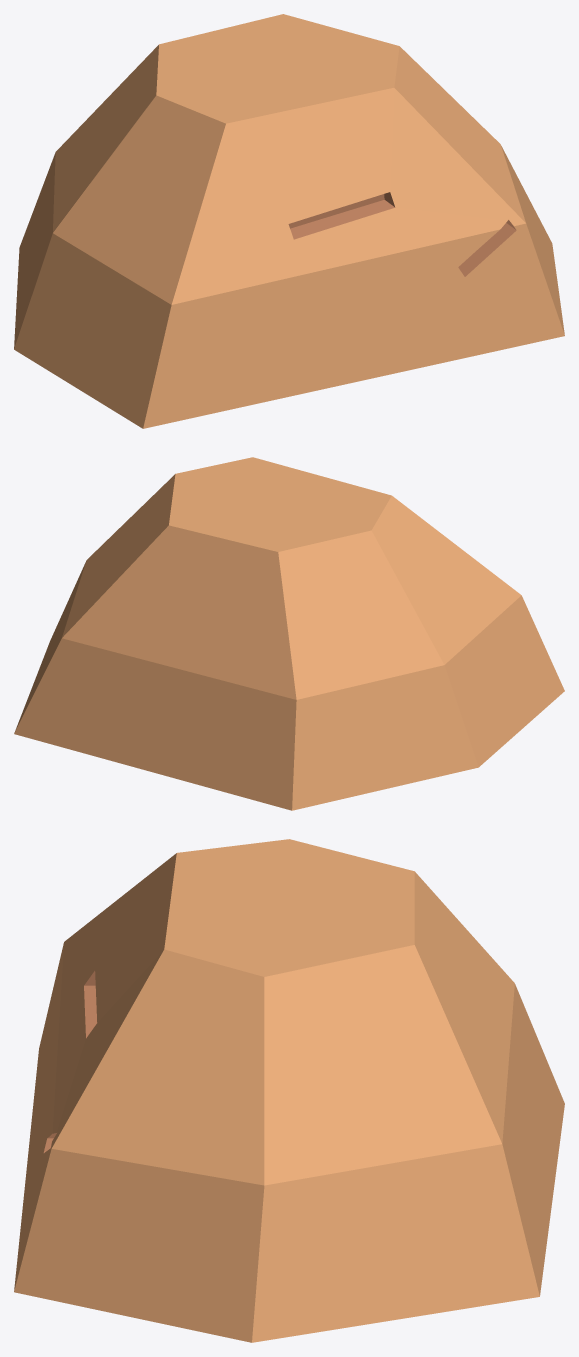
Rendered from DesertStoneMedium.glb.
The picture shows the model from 3 angles, top to bottom: view 1: azimuth 30°, elevation 25°; view 2: azimuth 150°, elevation 25°; view 3: azimuth 270°, elevation 25°; orthographic projection. The views are drawn at different scales.
Parts seen in each view (by area): view 1: DesertStoneMedium_Body, DesertStoneMedium_Crevices; view 2: DesertStoneMedium_Body; view 3: DesertStoneMedium_Body, DesertStoneMedium_Crevices.
Part boxes in pixels (box(x1,y1,x2,y2)): DesertStoneMedium_Body: box(14, 14, 564, 428); DesertStoneMedium_Crevices: box(288, 192, 516, 276); DesertStoneMedium_Body: box(14, 457, 564, 810); DesertStoneMedium_Body: box(14, 839, 564, 1342); DesertStoneMedium_Crevices: box(43, 971, 97, 1152).
Size of the model in its own units: 2.8 by 1.2 by 2.15.
